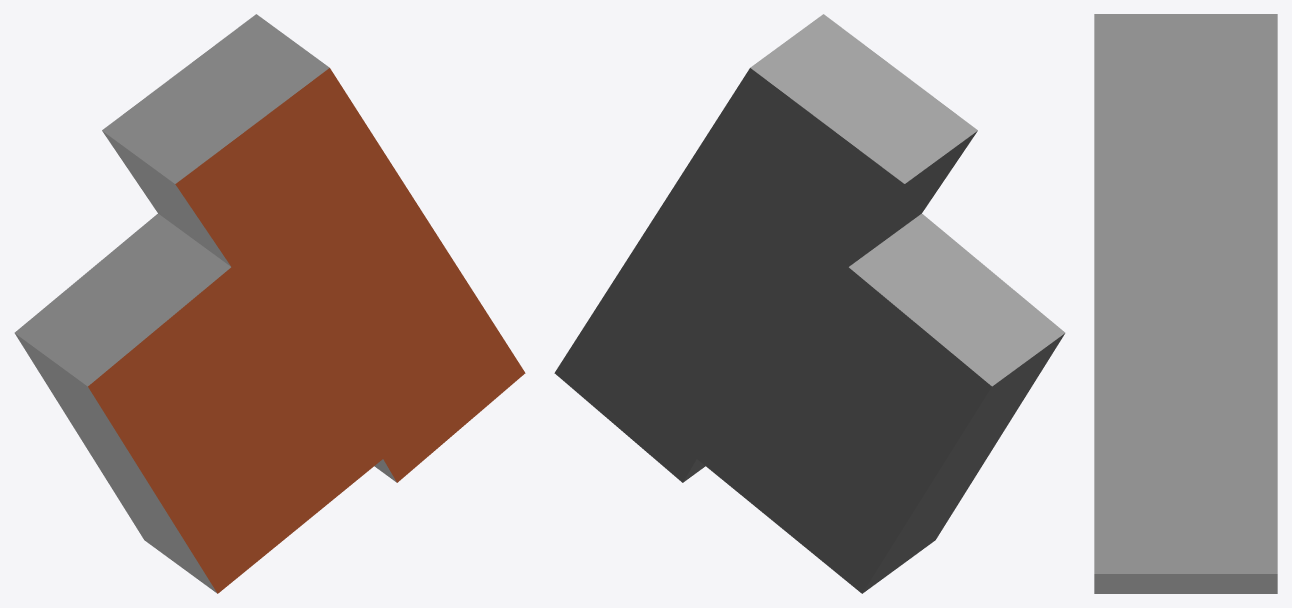
The model's file is construction_2056_assumed_A_Casa_h6m.obj.
3 renders of one model, left to right at view 1: azimuth 30°, elevation 25°; view 2: azimuth 150°, elevation 25°; view 3: azimuth 270°, elevation 25°, orthographic. The views are drawn at different scales.
Visible parts, largest first — view 1: construction_2056_assumed_A_Casa; view 2: construction_2056_assumed_A_Casa; view 3: construction_2056_assumed_A_Casa.
Boxes of the visible parts, bbox=[...] form: construction_2056_assumed_A_Casa: bbox=[14, 14, 525, 593]; construction_2056_assumed_A_Casa: bbox=[554, 14, 1065, 593]; construction_2056_assumed_A_Casa: bbox=[1094, 14, 1277, 593].
Bounding box in the file's own units: 20.65 × 22.49 × 6.
